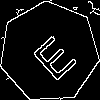E: (24, 26, 79, 83)
